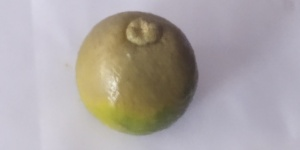BAD: (76, 11, 196, 136)
